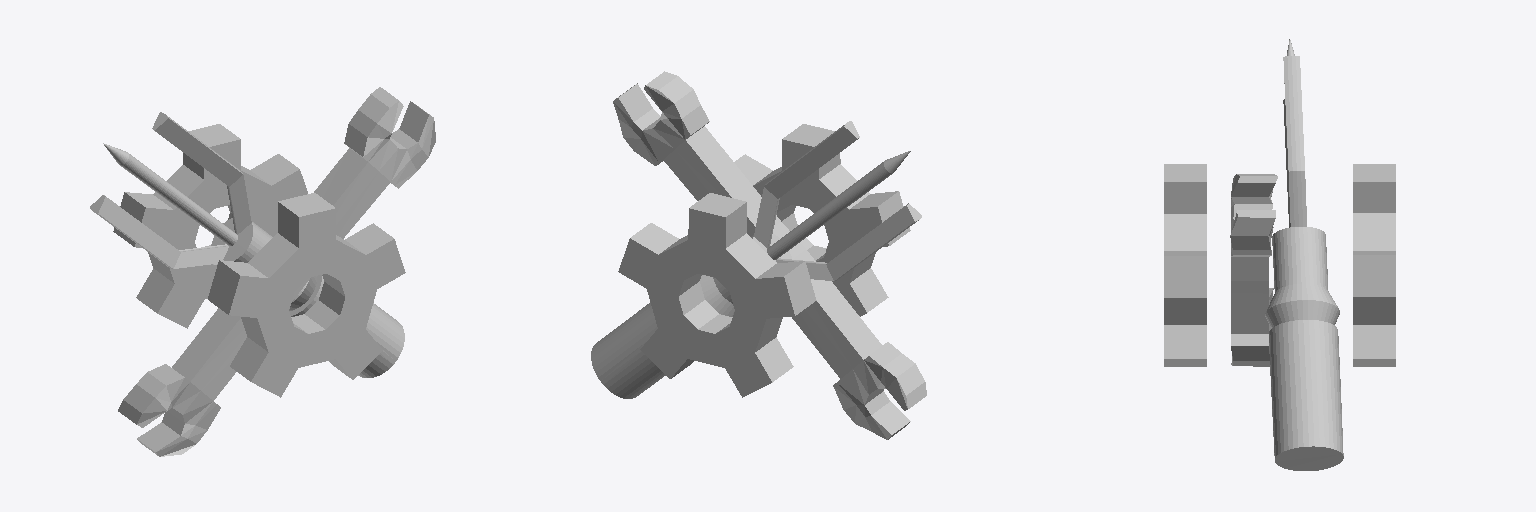
File: healing3.obj
3 views of the same model, side by side, from view 1: azimuth 30°, elevation 25°; view 2: azimuth 150°, elevation 25°; view 3: azimuth 270°, elevation 25° (orthographic).
Visible parts, largest first — view 1: Large_Heal_Cube.003; view 2: Large_Heal_Cube.003; view 3: Large_Heal_Cube.003.
Part boxes in pixels (bbox=[...]): Large_Heal_Cube.003: bbox=[90, 87, 435, 456]; Large_Heal_Cube.003: bbox=[591, 71, 926, 439]; Large_Heal_Cube.003: bbox=[1164, 39, 1395, 470].
Bounding box in the file's own units: 1.18 × 1.14 × 0.7516.